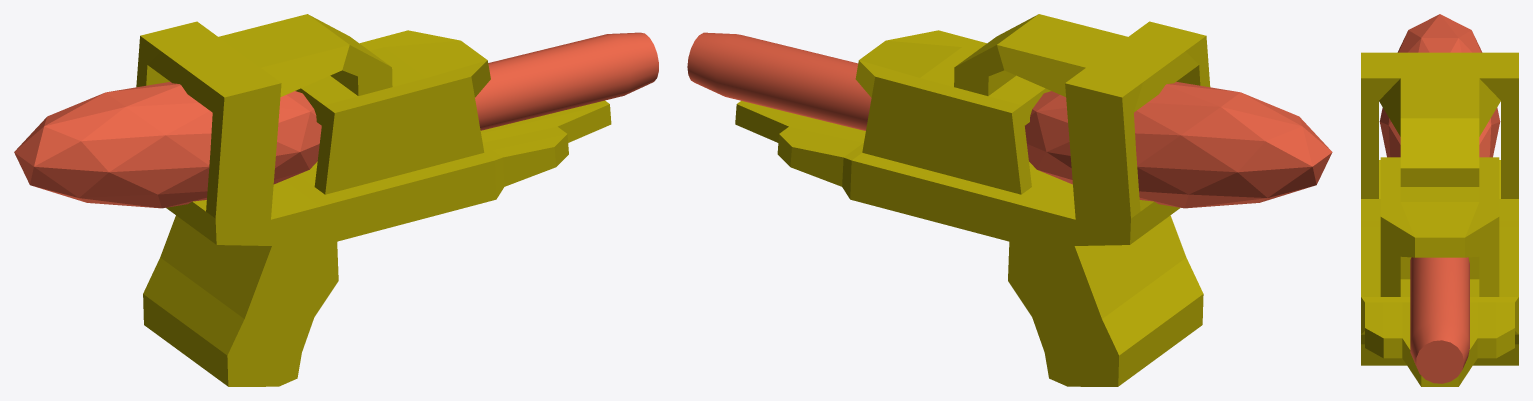
File: WaterGun.fbx
3 views of the same model, side by side, from view 1: azimuth 30°, elevation 25°; view 2: azimuth 150°, elevation 25°; view 3: azimuth 270°, elevation 25° (orthographic). The views are drawn at different scales.
Visible parts, largest first — view 1: Cube, Icosphere, Cylinder; view 2: Cube, Icosphere, Cylinder; view 3: Cube, Cylinder, Icosphere.
Part boxes in pixels (x1,y1,x2,y2): Cube: (136,14,611,386); Icosphere: (14,81,321,208); Cylinder: (475,32,658,130); Cube: (735,14,1210,386); Icosphere: (1025,81,1332,208); Cylinder: (687,32,871,130); Cube: (1361,52,1518,386); Cylinder: (1410,257,1469,383); Icosphere: (1379,14,1500,157).
Bounding box in the file's own units: 223 × 104 × 52.39.
